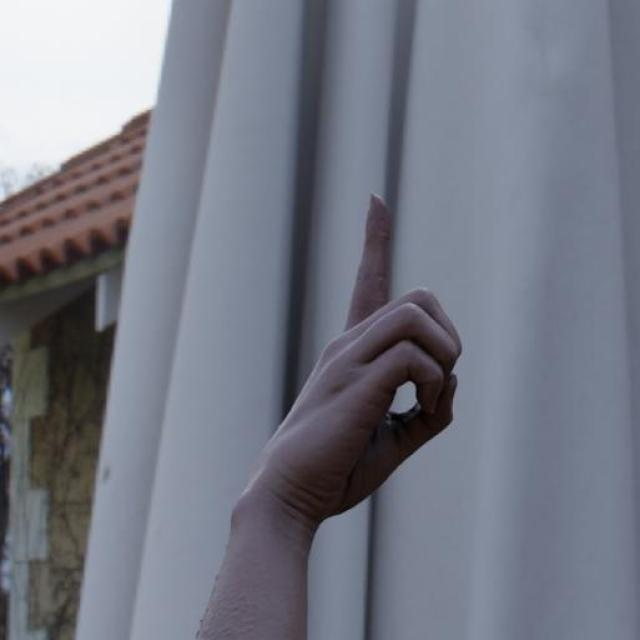D: (262, 182, 468, 514)
